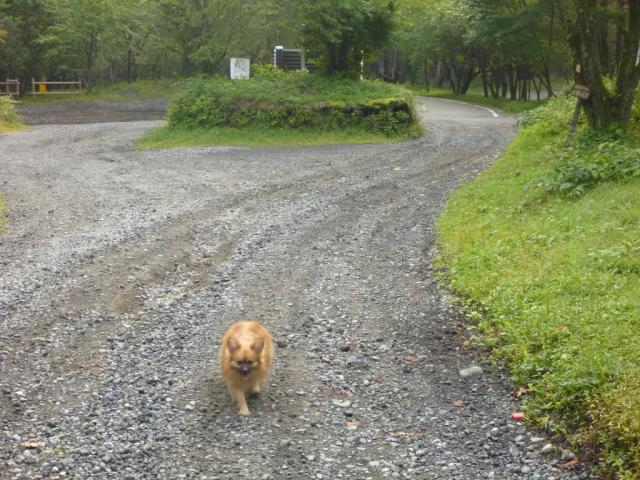Dog: (219, 321, 274, 418)
